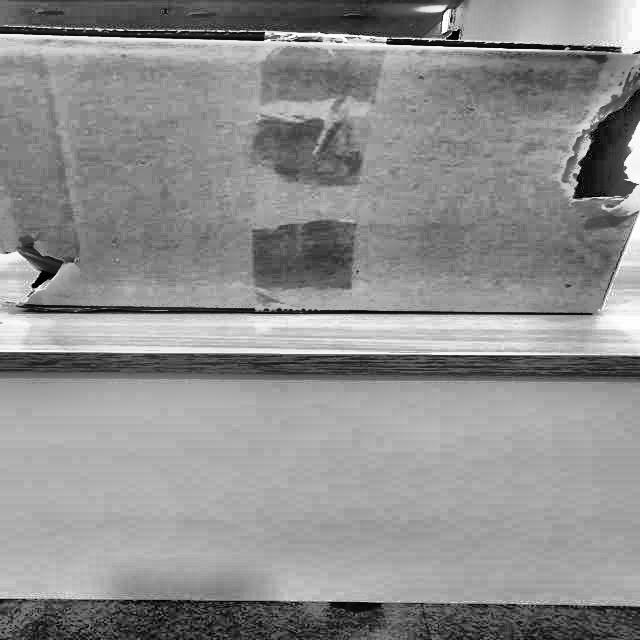box: (0, 25, 639, 329)
hole: (567, 69, 640, 205), (25, 238, 75, 296)
